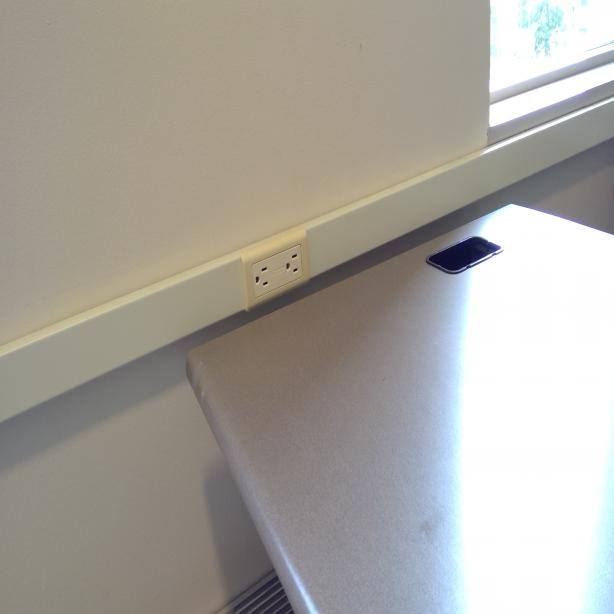typeb: (252, 260, 272, 293), (283, 246, 301, 281)
